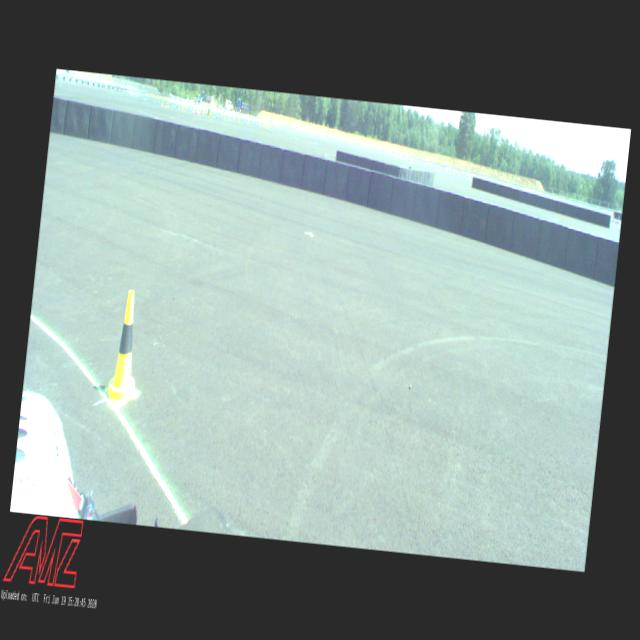yellow_cone: (102, 288, 147, 408)
